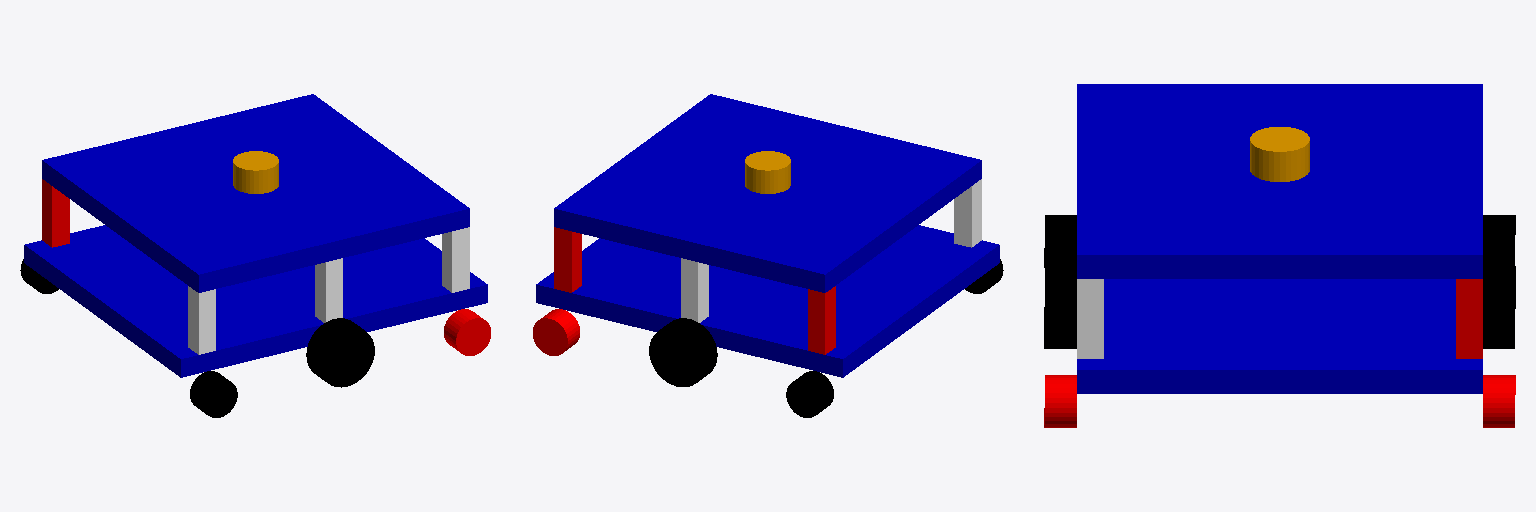
URDF robot description (lino_robot):
<?xml version="1.0"?>
<robot name="lino_robot">

  <link name="base_link">
    <visual>
      <geometry>
        <box size="0.52 0.46 0.03"/>
      </geometry>
      <origin rpy="0 0 0" xyz="0.0 0.00 0.075"/>
      <material name="blue">
        <color rgba="0 0 .8 1"/>
      </material>
    </visual>
  </link>

  <link name="second_deck">
    <visual>
      <geometry>
        <box size="0.46 0.46 0.03"/>
      </geometry>
      <origin rpy="0 0 0" xyz="0 0 0.205"/>
      <material name="blue">
        <color rgba="0 0 .8 1"/>
      </material>
    </visual>
  </link>

  <link name="front_left_wheel">
    <visual>
      <geometry>
        <cylinder length="0.037" radius="0.03"/>
      </geometry>
      <origin rpy="1.57 0 0" xyz="0.215 0.2485 0.03"/>
      <material name="red">
        <color rgba="125 0 0 1"/>
      </material>
    </visual>
  </link>
  
  <link name="front_right_wheel">
    <visual>
      <geometry>
        <cylinder length="0.037" radius="0.03"/>
      </geometry>
      <origin rpy="1.57 0 0" xyz="0.215 -0.2485 0.03"/>
      <material name="red">
        <color rgba="125 0 0 1"/>
      </material>
    </visual>
  </link>

  <link name="middle_left_wheel">
    <visual>
      <geometry>
        <cylinder length="0.037" radius="0.0475"/>
      </geometry>
      <origin rpy="1.57 0 0" xyz="0 0.2485 0.0475"/>
      <material name="black">
        <color rgba="0 0 0 1"/>
      </material>
    </visual>
  </link>

  <link name="middle_right_wheel">
    <visual>
      <geometry>
        <cylinder length="0.037" radius="0.0475"/>
      </geometry>
      <origin rpy="1.57 0 0" xyz="0 -0.2485 0.0475"/>
      <material name="black">
        <color rgba="0 0 0 1"/>
      </material>
    </visual>
  </link>

  <link name="rear_left_wheel">
    <visual>
      <geometry>
        <cylinder length="0.037" radius="0.03"/>
      </geometry>
      <origin rpy="1.57 0 0" xyz="-0.215 0.2485 0.03"/>
      <material name="black">
        <color rgba="0 0 0 1"/>
      </material>
    </visual>
  </link>

  <link name="rear_right_wheel">
    <visual>
      <geometry>
        <cylinder length="0.037" radius="0.03"/>
      </geometry>
      <origin rpy="1.57 0 0" xyz="-0.215 -0.2485 0.03"/>
      <material name="black">
        <color rgba="0 0 0 1"/>
      </material>
    </visual>
  </link>

  <link name="laser">
    <visual>
      <geometry>
        <cylinder length="0.038" radius="0.034"/>
      </geometry>
      <origin rpy="0 0 0" xyz="0 0 0.239"/>
      <material name="Green"/>
        <color rgba="0 1 0 1.0"/>
    </visual>
  </link>

  <link name="front_left_pole">
    <visual>
      <geometry>
        <box size="0.03 0.03 0.1"/>
      </geometry>
      <origin rpy="0 0 0" xyz="0.215 0.215 0.14"/>
      <material name="red">
        <color rgba="255 0 0 1"/>
      </material>
    </visual>
  </link>

  <link name="front_right_pole">
    <visual>
      <geometry>
        <box size="0.03 0.03 0.1"/>
      </geometry>
      <origin rpy="0 0 0" xyz="-0.215 0.215 0.14"/>
      <material name="red">
        <color rgba="255 0 0 1"/>
      </material>
    </visual>
  </link>

  <link name="middle_left_pole">
    <visual>
      <geometry>
        <box size="0.03 0.03 0.1"/>
      </geometry>
      <origin rpy="0 0 0" xyz="0 0.215 0.14"/>
      <material name="silver">
        <color rgba="192 192 192 0.6"/>
      </material>
    </visual>
  </link>

  <link name="middle_right_pole">
    <visual>
      <geometry>
        <box size="0.03 0.03 0.1"/>
      </geometry>
      <origin rpy="0 0 0" xyz="0 -0.215 0.14"/>
      <material name="silver">
        <color rgba="192 192 192 0.6"/>
      </material>
    </visual>
  </link>

  <link name="rear_left_pole">
    <visual>
      <geometry>
        <box size="0.03 0.03 0.1"/>
      </geometry>
      <origin rpy="0 0 0" xyz="0.215 -0.215 0.14"/>
      <material name="silver">
        <color rgba="192 192 192 0.6"/>
      </material>
    </visual>
  </link>

  <link name="rear_right_pole">
    <visual>
      <geometry>
        <box size="0.03 0.03 0.1"/>
      </geometry>
      <origin rpy="0 0 0" xyz="-0.215 -0.215 0.14"/>
      <material name="silver">
        <color rgba="192 192 192 0.6"/>
      </material>
    </visual>
  </link>

  <joint name="base_to_second_deck" type="fixed">
    <parent link="base_link"/>
    <child link="second_deck"/>
    <origin xyz="0 0 0"/>
  </joint>

  <joint name="base_to_front_left_wheel" type="fixed">
    <parent link="base_link"/>
    <child link="front_left_wheel"/>
    <origin xyz="0 0 0"/>
  </joint>
  
  <joint name="base_to_front_right_wheel" type="fixed">
    <parent link="base_link"/>
    <child link="front_right_wheel"/>
    <origin xyz="0 0 0"/>
  </joint>

  <joint name="base_to_middle_left_wheel" type="fixed">
    <parent link="base_link"/>
    <child link="middle_left_wheel"/>
    <origin xyz="0 0 0"/>
  </joint>
  
  <joint name="base_to_middle_right_wheel" type="fixed">
    <parent link="base_link"/>
    <child link="middle_right_wheel"/>
    <origin xyz="0 0 0"/>
  </joint>

  <joint name="base_to_rear_left_wheel" type="fixed">
    <parent link="base_link"/>
    <child link="rear_left_wheel"/>
    <origin xyz="0 0 0"/>
  </joint>

  <joint name="base_to_rear_right_wheel" type="fixed">
    <parent link="base_link"/>
    <child link="rear_right_wheel"/>
    <origin xyz="0 0 0"/>
  </joint>

  <joint name="base_to_laser" type="fixed">
    <parent link="base_link"/>
    <child link="laser"/>
    <origin xyz="0 0 0"/>
  </joint>

  <joint name="base_to_front_left_pole" type="fixed">
    <parent link="base_link"/>
    <child link="front_left_pole"/>
    <origin xyz="0 0 0"/>
  </joint>

  <joint name="base_to_front_right_pole" type="fixed">
    <parent link="base_link"/>
    <child link="front_right_pole"/>
    <origin xyz="0 0 0"/>
  </joint>

  <joint name="base_to_middle_left_pole" type="fixed">
    <parent link="base_link"/>
    <child link="middle_left_pole"/>
    <origin xyz="0 0 0"/>
  </joint>

  <joint name="base_to_middle_right_pole" type="fixed">
    <parent link="base_link"/>
    <child link="middle_right_pole"/>
    <origin xyz="0 0 0"/>
  </joint>

  <joint name="base_to_rear_left_pole" type="fixed">
    <parent link="base_link"/>
    <child link="rear_left_pole"/>
    <origin xyz="0 0 0"/>
  </joint>

  <joint name="base_to_rear_right_pole" type="fixed">
    <parent link="base_link"/>
    <child link="rear_right_pole"/>
    <origin xyz="0 0 0"/>
  </joint>
</robot>

--- What the picture shows (computed from the rendered views, not written in the file) ---
Views: 3 orthographic renders of the robot side by side, from view 1: azimuth 30°, elevation 25°; view 2: azimuth 150°, elevation 25°; view 3: azimuth 270°, elevation 25°.
Model lino_robot with 15 links and 14 joints (14 fixed), rooted at base_link, posed every joint at zero.
Visible links, largest first — view 1: second_deck, base_link, middle_right_wheel, laser, rear_right_pole, rear_left_pole, rear_right_wheel, front_right_wheel, middle_right_pole, front_right_pole, rear_left_wheel; view 2: second_deck, base_link, middle_left_wheel, laser, front_right_pole, front_left_pole, rear_left_wheel, front_left_wheel, middle_left_pole, rear_right_pole, rear_right_wheel; view 3: second_deck, base_link, laser, middle_left_wheel, middle_right_wheel, front_left_pole, rear_left_pole, front_left_wheel, front_right_wheel, rear_left_wheel, rear_right_wheel.
Boxes of the visible links, x1,y1,x2,y2 form: second_deck: (42,94,469,292); base_link: (24,225,487,377); middle_right_wheel: (306,318,374,387); laser: (233,151,278,193); rear_right_pole: (188,286,215,354); rear_left_pole: (442,227,469,292); rear_right_wheel: (190,371,237,417); front_right_wheel: (444,309,490,355); middle_right_pole: (315,258,342,322); front_right_pole: (42,179,69,247); rear_left_wheel: (20,259,58,293); second_deck: (554,94,981,292); base_link: (536,225,999,377); middle_left_wheel: (649,318,717,386); laser: (745,151,790,193); front_right_pole: (808,286,835,354); front_left_pole: (554,227,581,292); rear_left_wheel: (786,371,833,417); front_left_wheel: (533,309,579,355); middle_left_pole: (681,258,708,322); rear_right_pole: (954,179,981,247); rear_right_wheel: (965,259,1003,293); second_deck: (1077,84,1482,278); base_link: (1077,279,1482,393); laser: (1250,127,1309,181); middle_left_wheel: (1483,266,1515,348); middle_right_wheel: (1044,266,1076,348); front_left_pole: (1456,279,1482,358); rear_left_pole: (1077,279,1103,358); front_left_wheel: (1483,375,1515,427); front_right_wheel: (1044,375,1076,427); rear_left_wheel: (1483,215,1515,265); rear_right_wheel: (1044,215,1076,267).
Bounding box of the posed robot: 0.52 × 0.5341 × 0.258 m (x, y, z).
Geometry: primitives only (box / cylinder / sphere), no mesh files.
